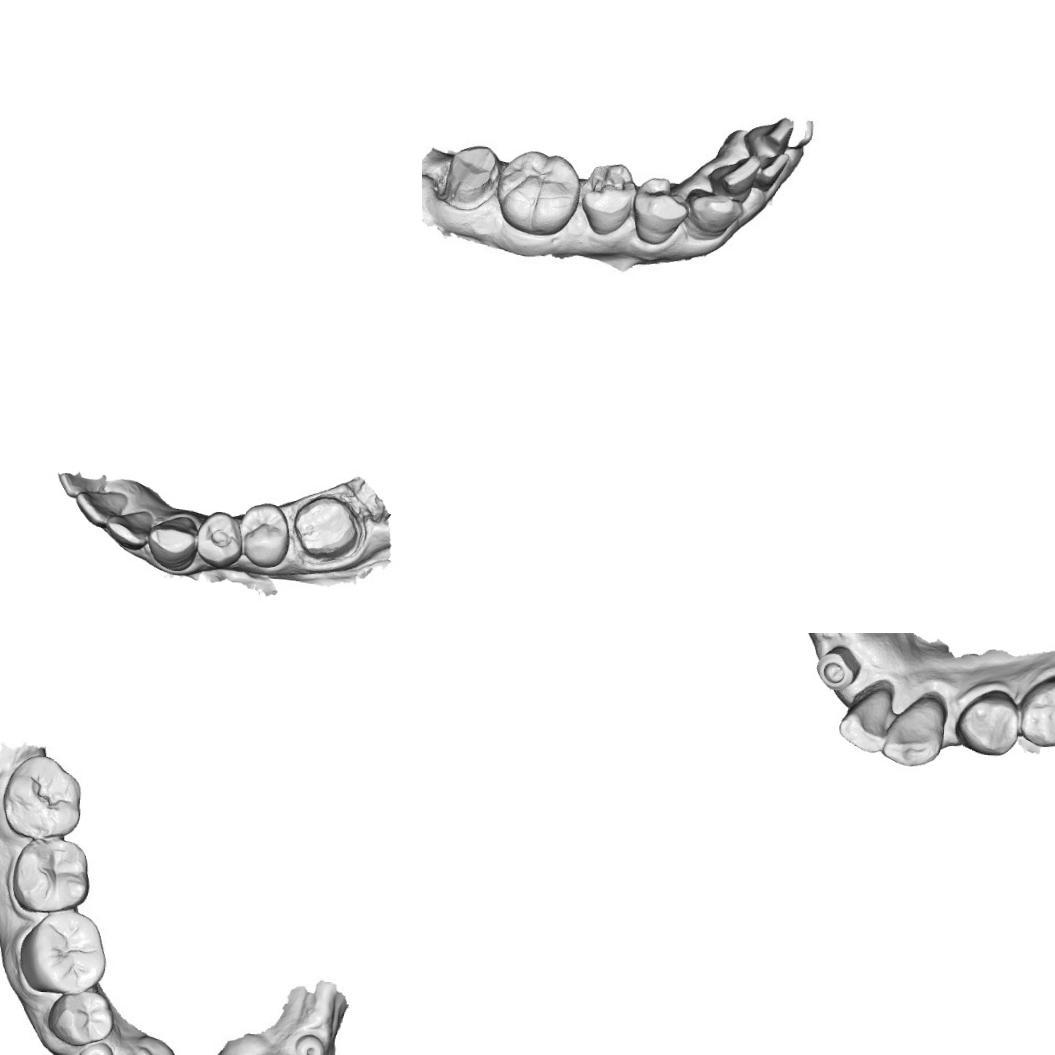canine: (880, 696, 947, 768), (145, 512, 198, 574), (686, 184, 740, 242)
crown: (288, 492, 364, 564), (439, 136, 498, 212)
implant: (813, 642, 859, 692), (291, 1027, 325, 1055), (70, 1040, 114, 1055)
incisor: (834, 683, 897, 756), (72, 486, 128, 529), (103, 505, 154, 550), (747, 116, 792, 159), (713, 155, 758, 194), (756, 145, 792, 188)
molar: (18, 906, 114, 996), (0, 752, 83, 845), (496, 150, 584, 236), (7, 833, 100, 913)
premolar: (955, 686, 1024, 758), (579, 162, 640, 236), (46, 985, 114, 1048), (628, 178, 686, 244), (238, 500, 291, 568), (193, 508, 244, 572), (1017, 671, 1055, 749)
